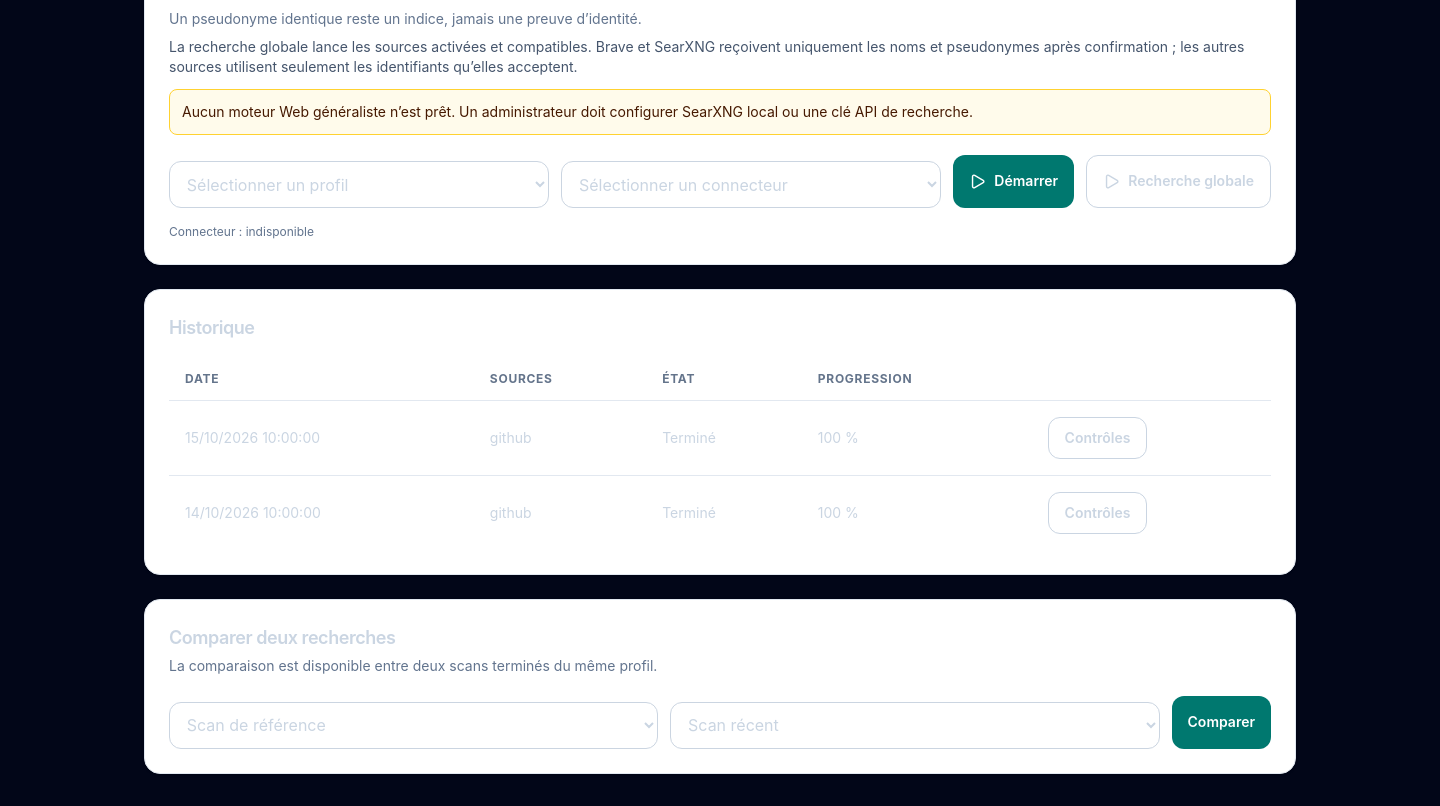
Test case: compare deux scans terminés sans présenter une absence comme supprimée
The width and height of the screenshot is (1440, 806).
(page scrolled)
Check: the heading "Comparer deux recherches" is shown, box [169, 627, 396, 648]
Select "14/10/2026 10:00:00" in the dropdown named "Scan de référence": (414, 725) [169, 702, 658, 749]
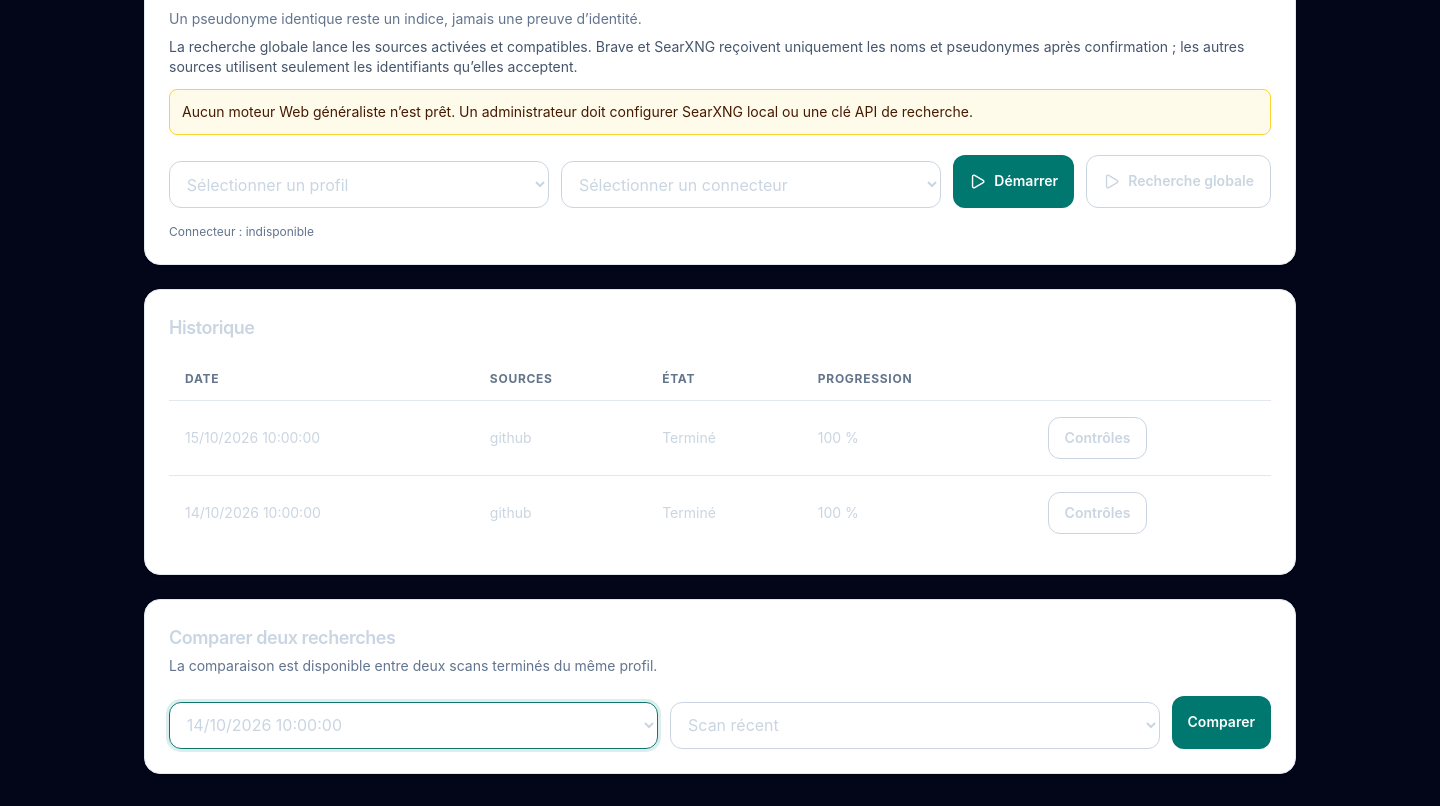
Select "15/10/2026 10:00:00" in the dropdown named "Scan récent": (915, 725) [670, 702, 1160, 749]
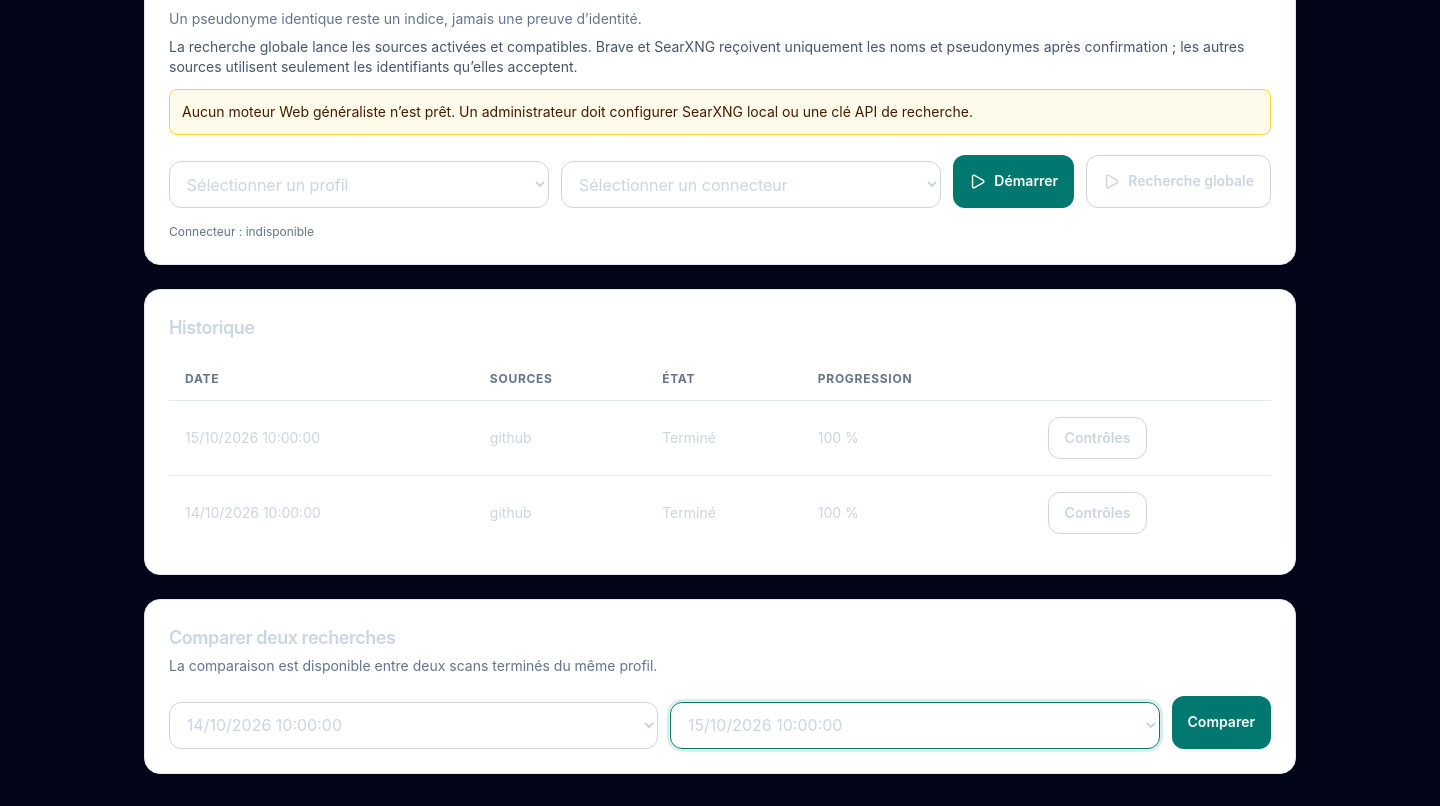
Click the button "Comparer": (1221, 722) [1172, 696, 1271, 749]
(page scrolled)
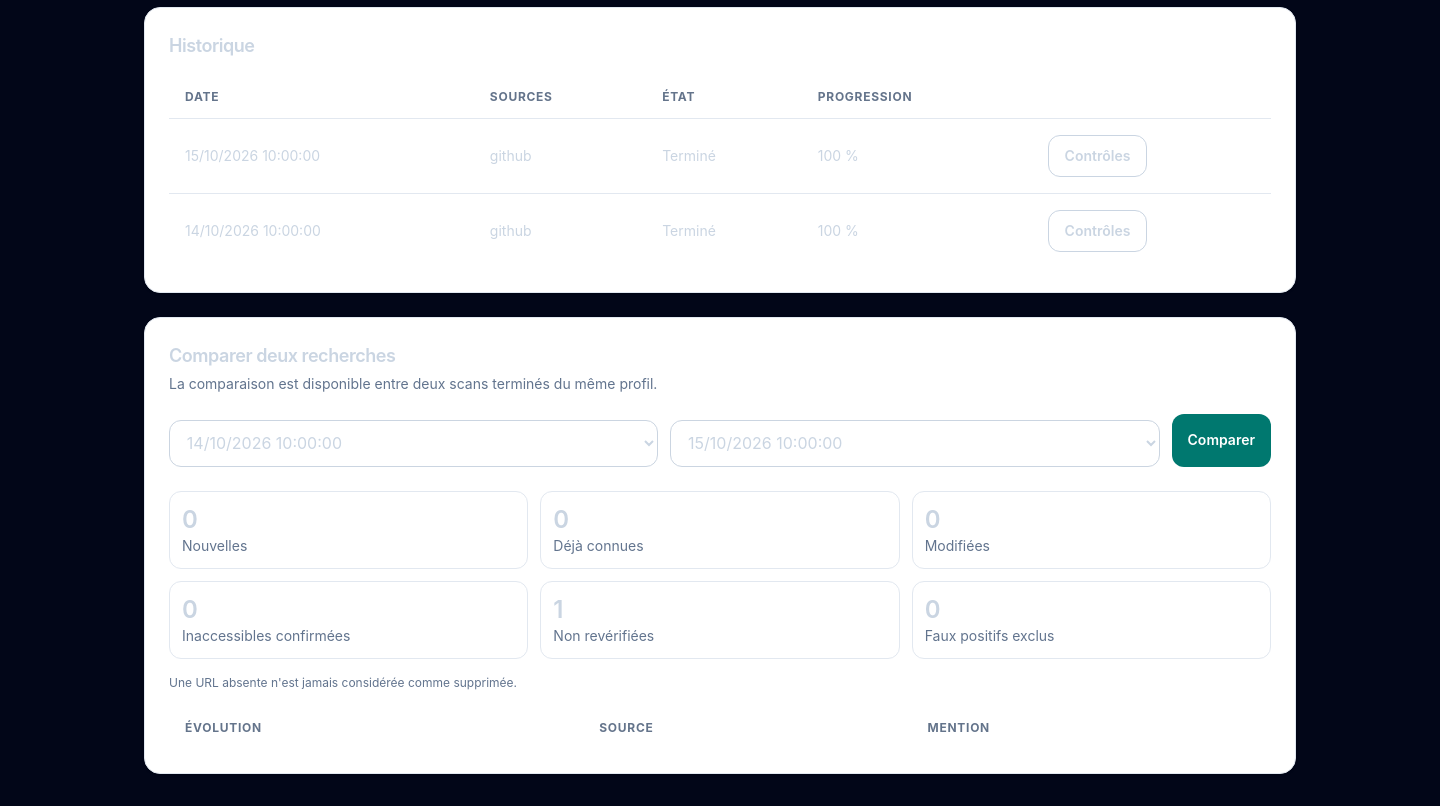
Check: the text "Une URL absente n'est jamais considérée comme supprimée." is shown, box [169, 674, 517, 690]
